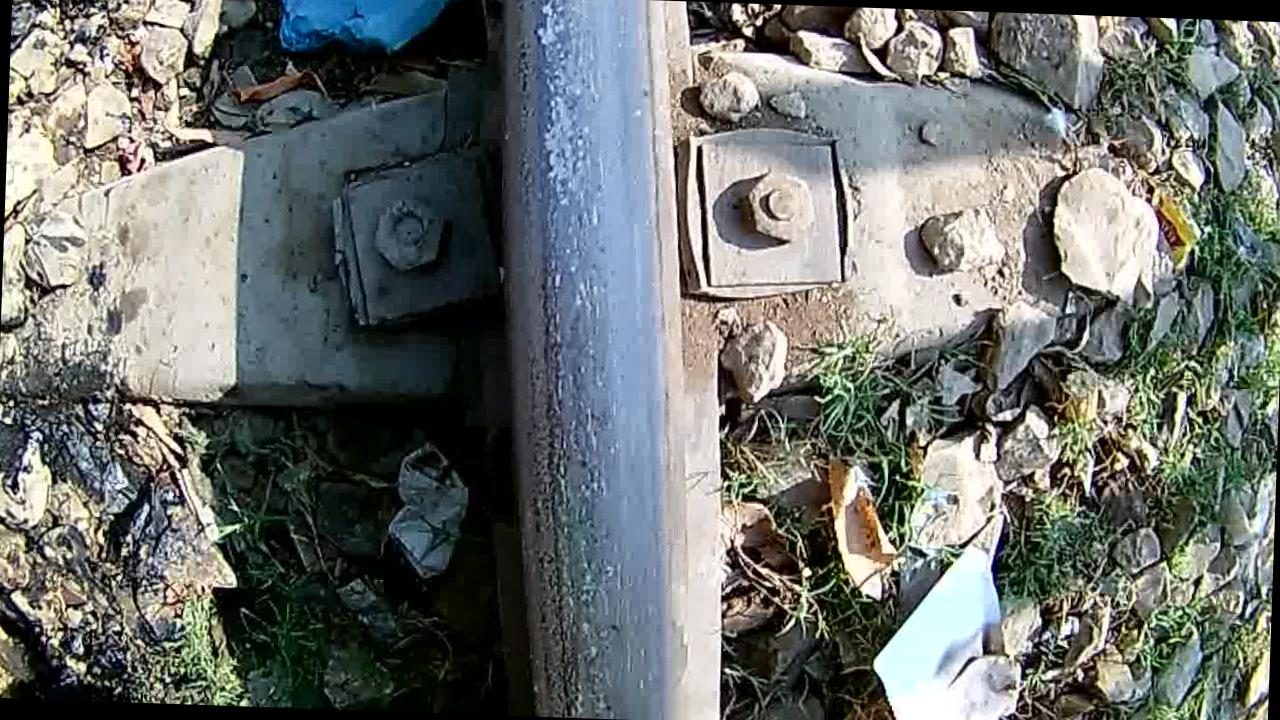clip_missing: (500, 0, 669, 717)
